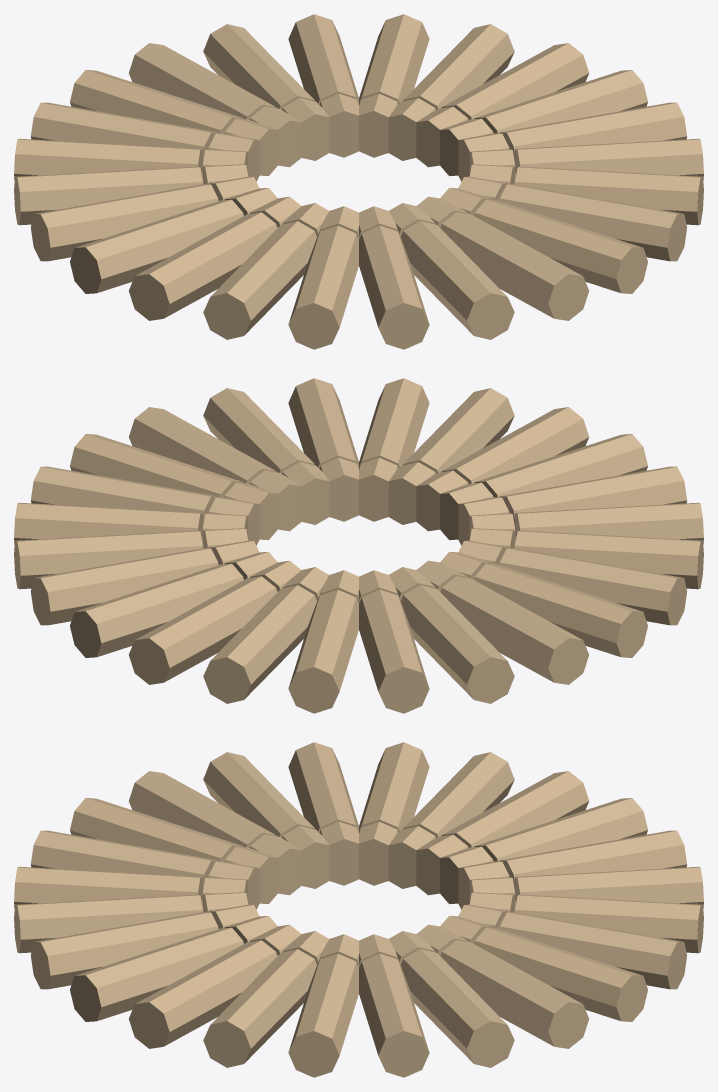
The model's file is rope_coil.glb.
The picture shows the model from 3 angles, top to bottom: view 1: azimuth 30°, elevation 25°; view 2: azimuth 150°, elevation 25°; view 3: azimuth 270°, elevation 25°; orthographic projection.
Parts seen in each view (by area): view 1: rope_section (×96); view 2: rope_section (×96); view 3: rope_section (×96).
Part boxes in pixels (x1=…): rope_section (×96): x1=14, y1=14, x2=703, y2=349; rope_section (×96): x1=14, y1=378, x2=703, y2=713; rope_section (×96): x1=14, y1=742, x2=703, y2=1077.
Bounding box in the file's own units: 0.6933 × 0.052 × 0.6933.
